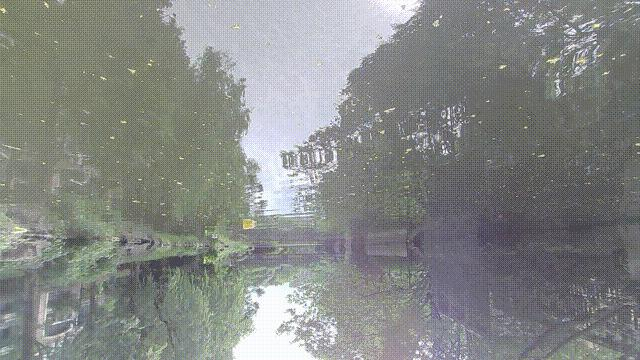Plastic: (11, 226, 30, 239), (243, 223, 257, 230), (110, 235, 120, 243), (211, 233, 219, 240)
